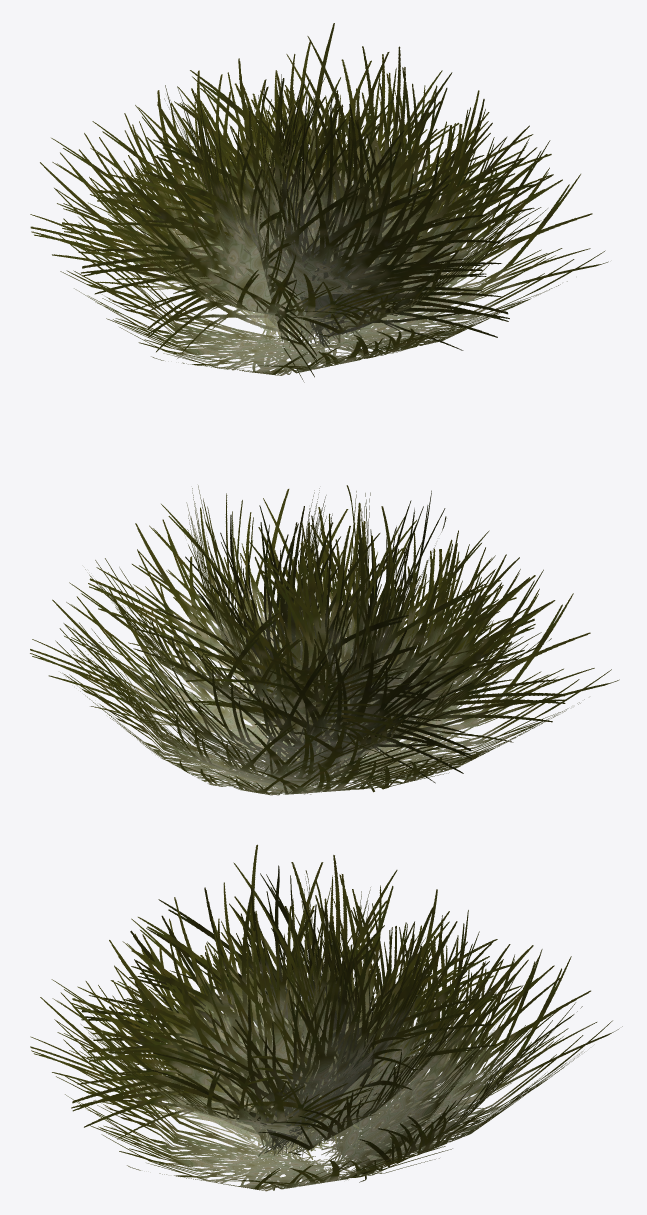
File: Grass.obj
3 renders of one model, top to bottom at view 1: azimuth 30°, elevation 25°; view 2: azimuth 150°, elevation 25°; view 3: azimuth 270°, elevation 25°, orthographic.
Visible parts, largest first — view 1: PanicumTurgidum_1; view 2: PanicumTurgidum_1; view 3: PanicumTurgidum_1.
Part boxes in pixels (<box>): PanicumTurgidum_1: <box>30,23,608,382</box>; PanicumTurgidum_1: <box>30,485,619,795</box>; PanicumTurgidum_1: <box>30,844,622,1191</box>.
Size of the model in its own units: 2.34 by 1.26 by 2.44.
